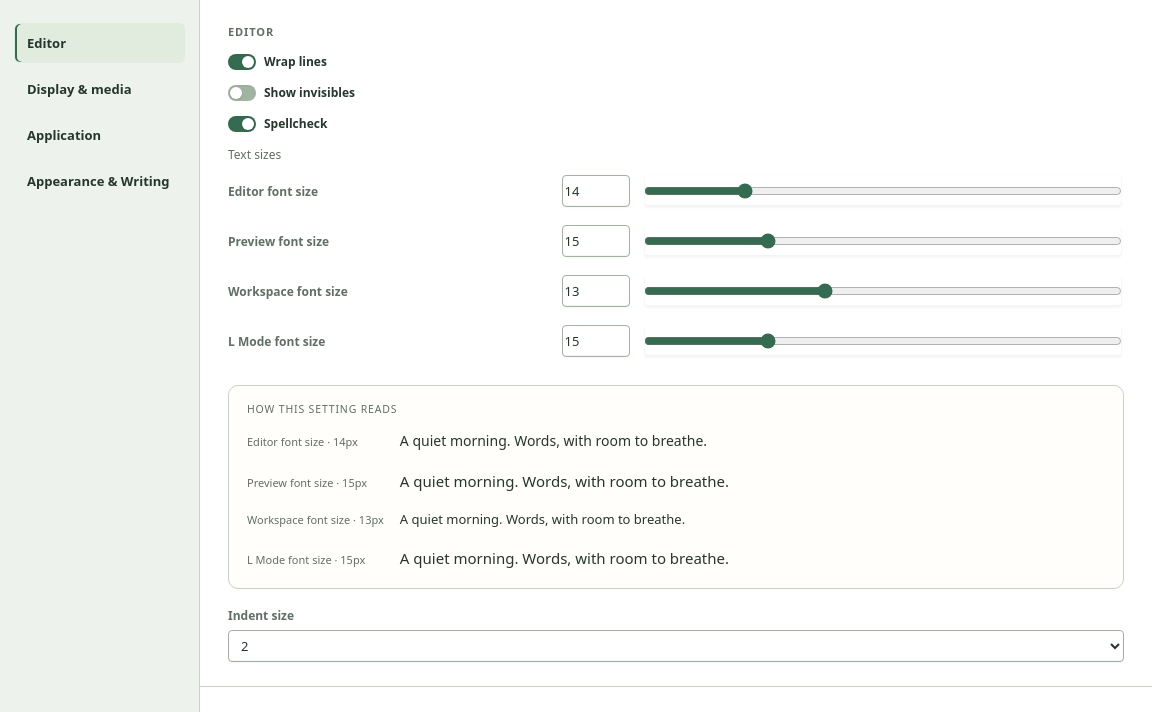
Test: drives lModeFontSize from its paired slider inside the same range
Set the slider named "L Mode font size" to "24" at (1114, 341), box x1=644 y1=325 x2=1122 y2=357
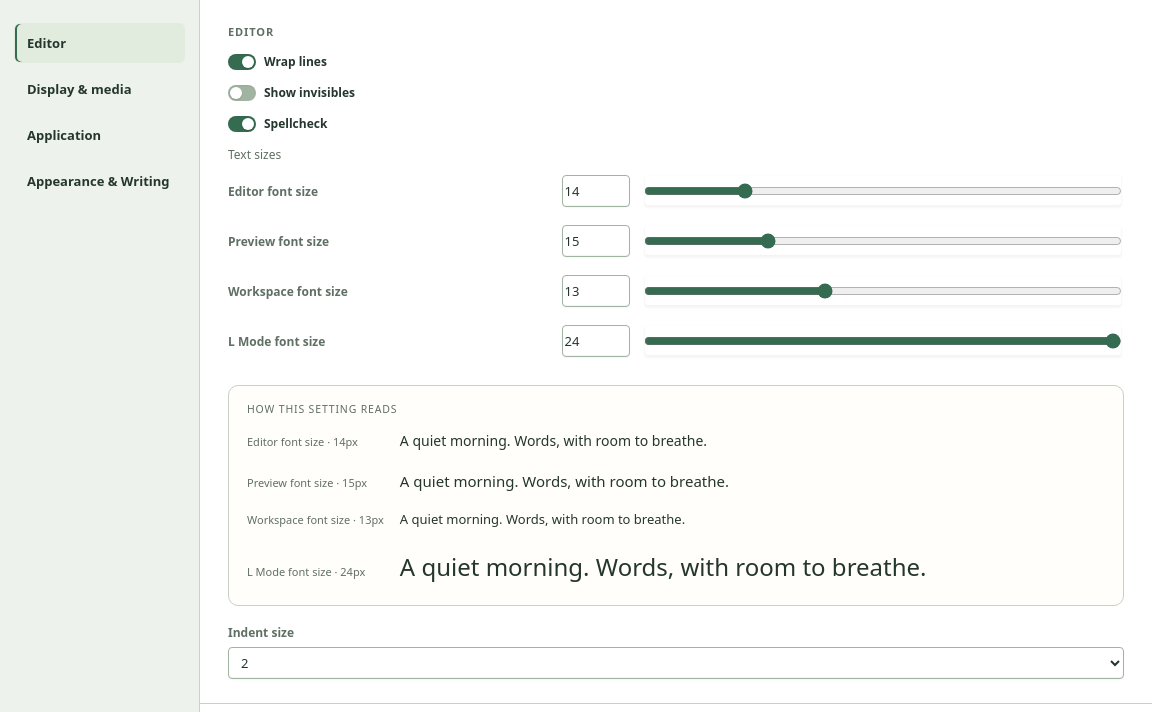
Check: the number field named "L Mode font size" holds "24", box x1=562 y1=325 x2=630 y2=357
